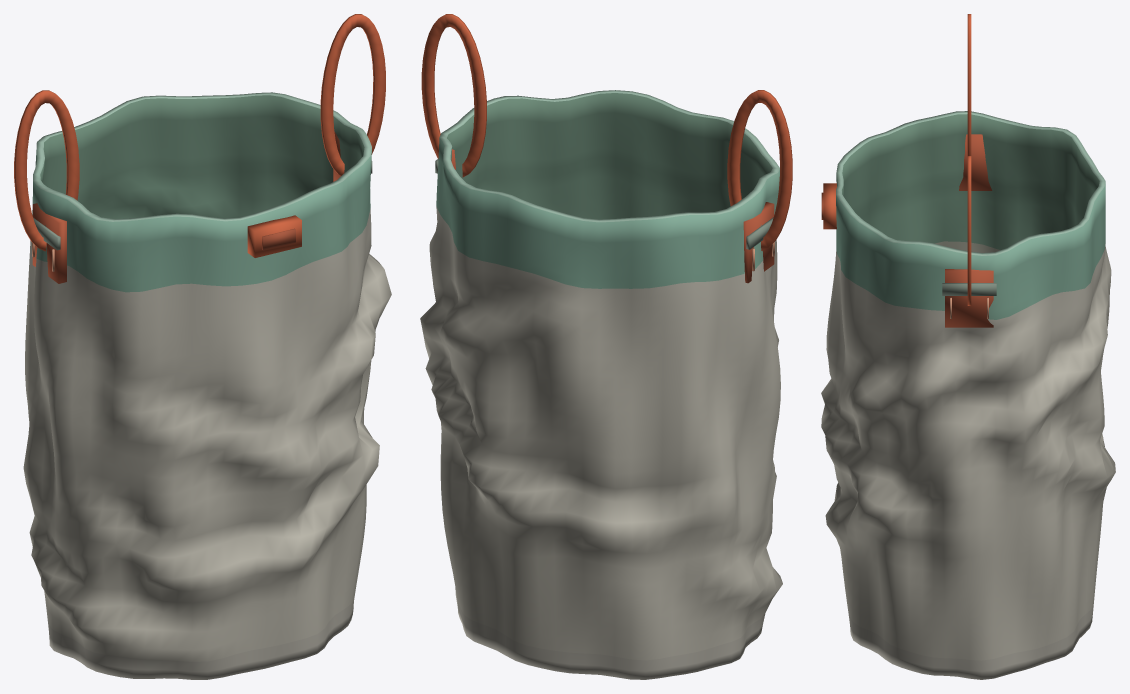
3 views of the same model, side by side, from view 1: azimuth 30°, elevation 25°; view 2: azimuth 150°, elevation 25°; view 3: azimuth 270°, elevation 25° (orthographic). The views are drawn at different scales.
Parts seen in each view (by area): view 1: bag_body; view 2: bag_body; view 3: bag_body.
Boxes of the visible parts, x1,y1,x2,y2 form: bag_body: (14, 14, 391, 679); bag_body: (420, 14, 792, 679); bag_body: (821, 14, 1115, 679).
Bounding box in the file's own units: 0.1143 × 0.168 × 0.0848.
